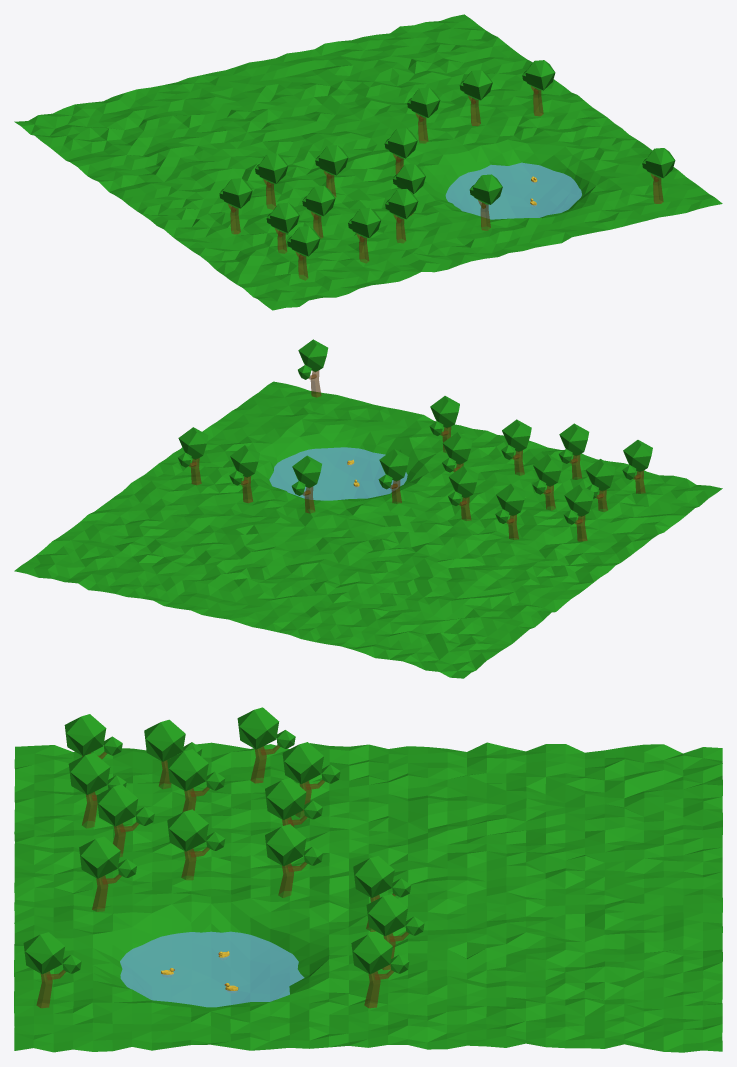
The model's file is forest.dae.
3 renders of one model, top to bottom at view 1: azimuth 30°, elevation 25°; view 2: azimuth 150°, elevation 25°; view 3: azimuth 270°, elevation 25°, orthographic. The views are drawn at different scales.
Visible parts, largest first — view 1: Grid, Plane, Icosphere_001_007, Icosphere_001_011, Icosphere_001_001, Icosphere_001_003, Icosphere_001_010, Icosphere_001, Icosphere_001_002, Icosphere_001_008, Icosphere_001_013, Icosphere_001_009 (+5 smaller); view 2: Grid, Plane, Icosphere_001_005, Icosphere_001_013, Icosphere_001_014, Icosphere_001_002, Icosphere_001_010, Icosphere_001_011, Icosphere_001, Icosphere_001_001, Icosphere_001_006, Icosphere_001_008 (+5 smaller); view 3: Grid, Plane, Icosphere_001_004, Icosphere_001_005, Icosphere_001, Icosphere_001_001, Icosphere_001_007, Icosphere_001_010, Icosphere_001_013, Icosphere_001_002, Icosphere_001_006, Icosphere_001_012 (+5 smaller).
Part boxes in pixels (bbox=[...]): Grid: bbox=[14, 14, 722, 310]; Plane: bbox=[445, 162, 581, 219]; Icosphere_001_007: bbox=[388, 128, 417, 158]; Icosphere_001_011: bbox=[410, 87, 440, 117]; Icosphere_001_001: bbox=[388, 189, 418, 219]; Icosphere_001_003: bbox=[290, 226, 320, 256]; Icosphere_001_010: bbox=[222, 178, 252, 208]; Icosphere_001: bbox=[473, 174, 502, 204]; Icosphere_001_002: bbox=[351, 208, 380, 238]; Icosphere_001_008: bbox=[318, 145, 348, 175]; Icosphere_001_013: bbox=[525, 60, 555, 90]; Icosphere_001_009: bbox=[258, 153, 287, 183]; Grid: bbox=[14, 381, 722, 678]; Plane: bbox=[269, 447, 407, 500]; Icosphere_001_005: bbox=[533, 454, 562, 486]; Icosphere_001_013: bbox=[178, 427, 208, 459]; Icosphere_001_014: bbox=[298, 339, 328, 371]; Icosphere_001_002: bbox=[559, 423, 589, 455]; Icosphere_001_010: bbox=[564, 484, 593, 516]; Icosphere_001_011: bbox=[292, 455, 321, 488]; Icosphere_001: bbox=[430, 396, 459, 428]; Icosphere_001_001: bbox=[502, 419, 531, 451]; Icosphere_001_006: bbox=[442, 432, 472, 464]; Icosphere_001_008: bbox=[449, 466, 478, 498]; Grid: bbox=[14, 742, 722, 1052]; Plane: bbox=[120, 931, 304, 1007]; Icosphere_001_004: bbox=[144, 719, 185, 761]; Icosphere_001_005: bbox=[167, 749, 208, 791]; Icosphere_001: bbox=[79, 836, 120, 878]; Icosphere_001_001: bbox=[96, 784, 138, 826]; Icosphere_001_007: bbox=[265, 824, 306, 866]; Icosphere_001_010: bbox=[237, 707, 279, 749]; Icosphere_001_013: bbox=[351, 932, 392, 974]; Icosphere_001_002: bbox=[68, 753, 110, 794]; Icosphere_001_006: bbox=[167, 809, 208, 851]; Icosphere_001_012: bbox=[366, 894, 407, 935].
Size of the model in its own units: 43.03 by 42.72 by 9.97.
